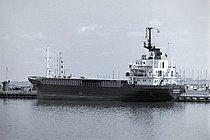Ship: (24, 54, 189, 106)
